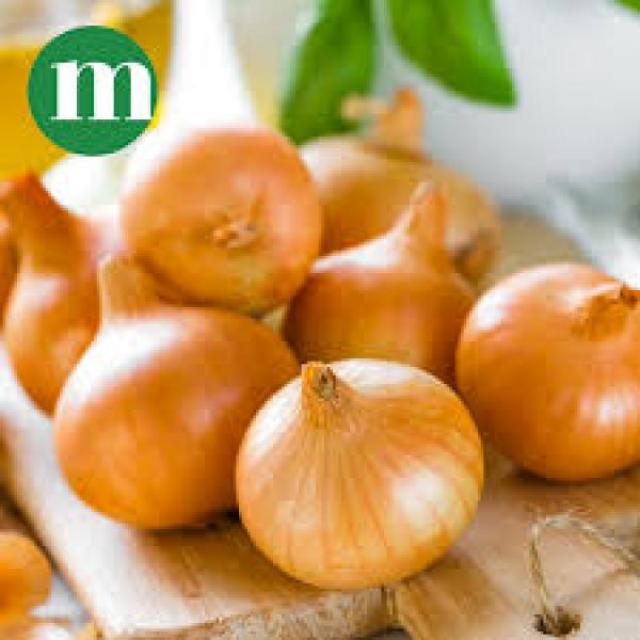Onion: (49, 270, 301, 535), (233, 358, 486, 595), (282, 176, 502, 389), (107, 125, 324, 325), (454, 262, 640, 485)
